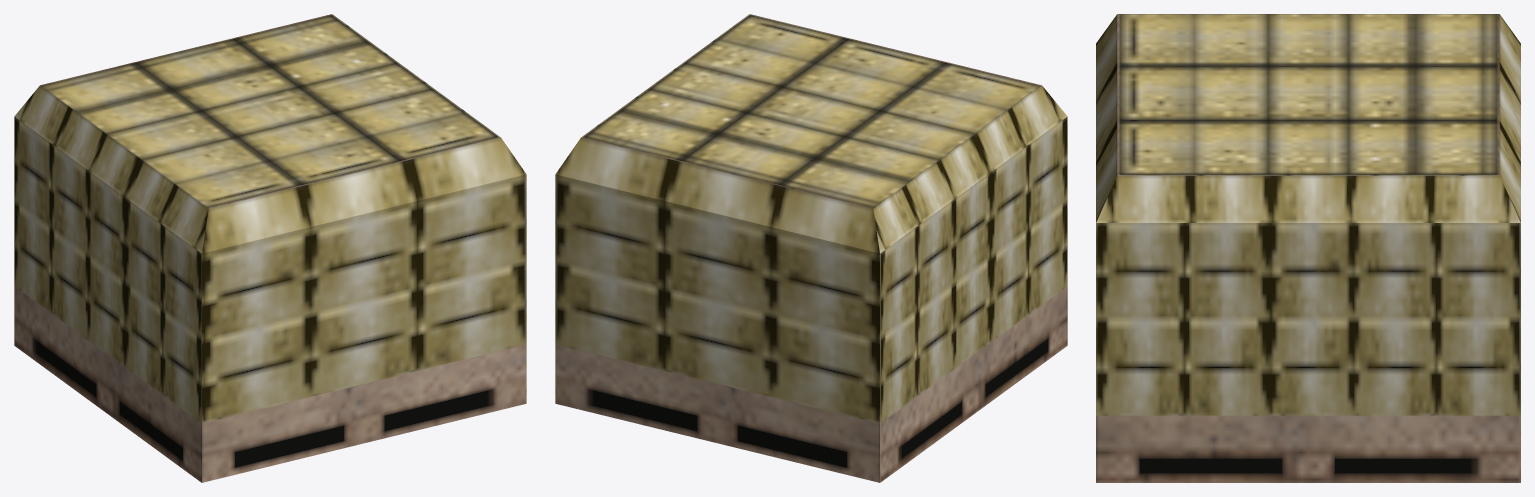
Rendered from PaletteGold01.obj.
3 views of the same model, side by side, from view 1: azimuth 30°, elevation 25°; view 2: azimuth 150°, elevation 25°; view 3: azimuth 270°, elevation 25° (orthographic). The views are drawn at different scales.
Visible parts, largest first — view 1: GoldPalette01; view 2: GoldPalette01; view 3: GoldPalette01.
Boxes of the visible parts, box(x1,y1,x2,y2) form: GoldPalette01: box(14, 14, 526, 482); GoldPalette01: box(555, 14, 1067, 482); GoldPalette01: box(1096, 14, 1520, 482).
Bounding box in the file's own units: 2 × 1.55 × 2.
